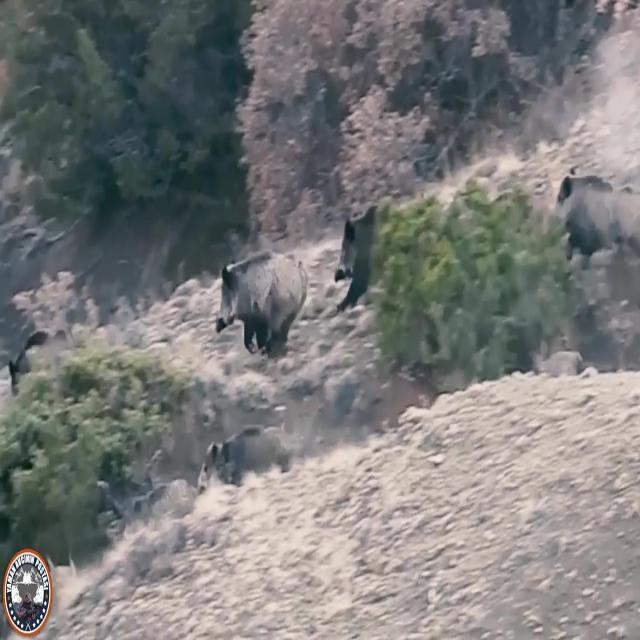pig: (215, 210, 322, 340), (556, 148, 640, 274), (334, 187, 394, 318)
